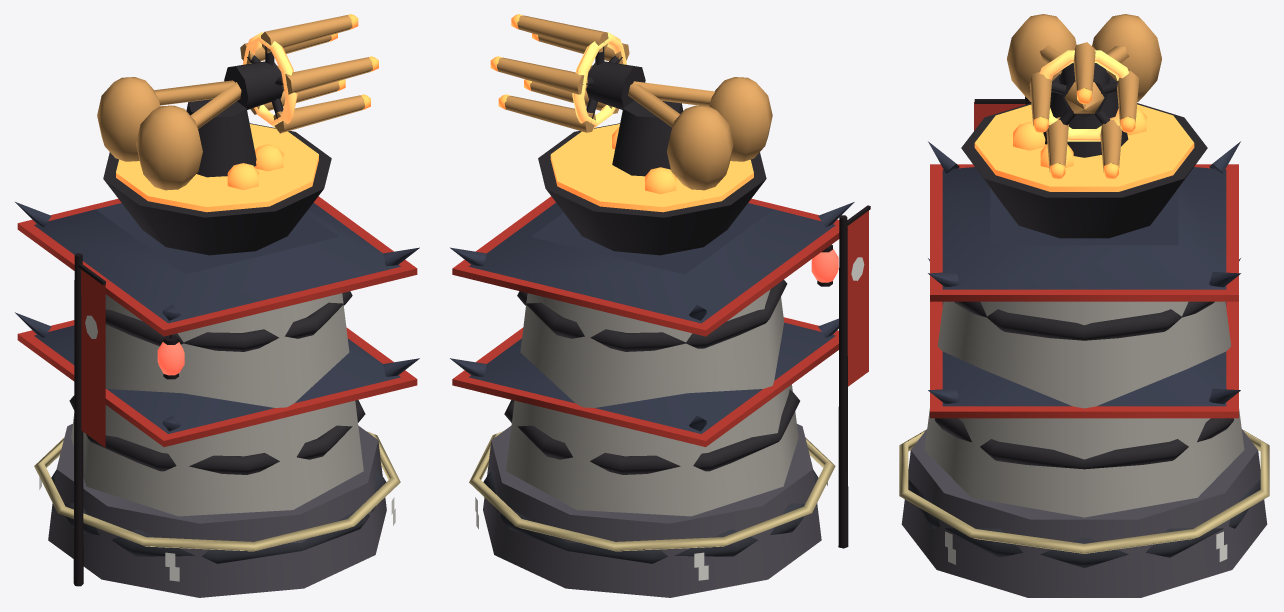
The model's file is tower_flame_firestorm.glb.
The picture shows the model from 3 angles, left to right: view 1: azimuth 30°, elevation 25°; view 2: azimuth 150°, elevation 25°; view 3: azimuth 270°, elevation 25°; orthographic projection. The views are drawn at different scales.
Visible parts, largest first — view 1: body, base, deco_eave_0_roof, brazier_bowl, coals, deco_eave_1_roof, deco_eave_0_rim, deco_eave_1_rim, deco_shimenawa_rope, gas_tank_l, deco_nobori_cloth, body_band_0.15 (+19 smaller); view 2: body, base, deco_eave_0_roof, brazier_bowl, deco_eave_1_roof, coals, deco_eave_0_rim, deco_eave_1_rim, deco_shimenawa_rope, gas_tank_r, body_band_0.15, body_band_0.3 (+18 smaller); view 3: body, base, deco_eave_0_roof, brazier_bowl, coals, deco_eave_0_rim, deco_eave_1_roof, deco_eave_1_rim, deco_shimenawa_rope, body_band_0.15, body_band_0.3, soot_ring (+15 smaller).
Boxes of the visible parts, box(x1,y1,x2,y2) form: body: box(71, 293, 363, 516); base: box(48, 424, 386, 597); deco_eave_0_roof: box(34, 202, 400, 323); brazier_bowl: box(103, 123, 331, 255); coals: box(116, 124, 318, 212); deco_eave_1_roof: box(34, 325, 400, 433); deco_eave_0_rim: box(17, 196, 417, 336); deco_eave_1_rim: box(17, 320, 417, 446); deco_shimenawa_rope: box(34, 431, 400, 551); gas_tank_l: box(136, 105, 202, 190); deco_nobori_cloth: box(81, 269, 105, 447); body_band_0.15: box(69, 395, 365, 474); body: box(506, 289, 798, 516); base: box(483, 424, 821, 597); deco_eave_0_roof: box(469, 203, 835, 323); brazier_bowl: box(538, 123, 766, 255); deco_eave_1_roof: box(469, 322, 835, 433); coals: box(550, 124, 753, 212); deco_eave_0_rim: box(452, 196, 839, 336); deco_eave_1_rim: box(452, 317, 838, 447); deco_shimenawa_rope: box(469, 431, 835, 551); gas_tank_r: box(667, 105, 733, 190); body_band_0.15: box(504, 389, 799, 474); body_band_0.3: box(517, 279, 787, 351); body: box(924, 301, 1244, 517); base: box(901, 429, 1267, 597); deco_eave_0_roof: box(942, 167, 1226, 289); brazier_bowl: box(961, 103, 1207, 238); coals: box(974, 104, 1194, 191); deco_eave_0_rim: box(930, 164, 1238, 301); deco_eave_1_roof: box(942, 302, 1226, 406); deco_eave_1_rim: box(930, 301, 1238, 418); deco_shimenawa_rope: box(899, 429, 1269, 553); body_band_0.15: box(935, 418, 1233, 469); body_band_0.3: box(954, 301, 1214, 340); soot_ring: box(908, 479, 1260, 567).
Bounding box in the file's own units: 0.4387 × 0.6127 × 0.4052.
